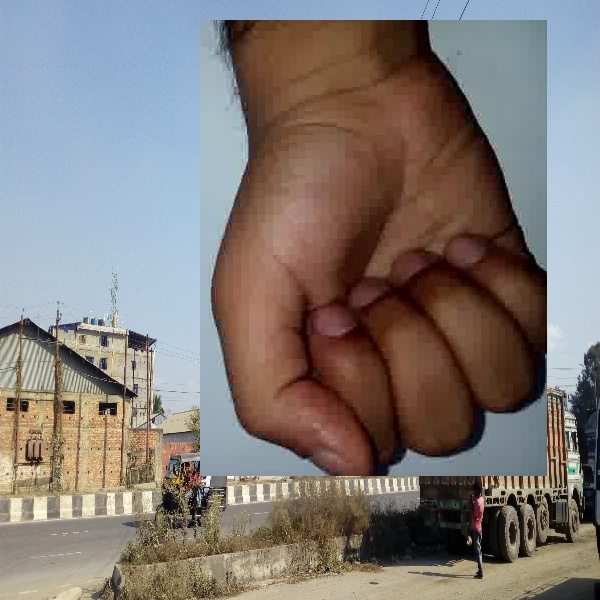A: (200, 20, 547, 476)
